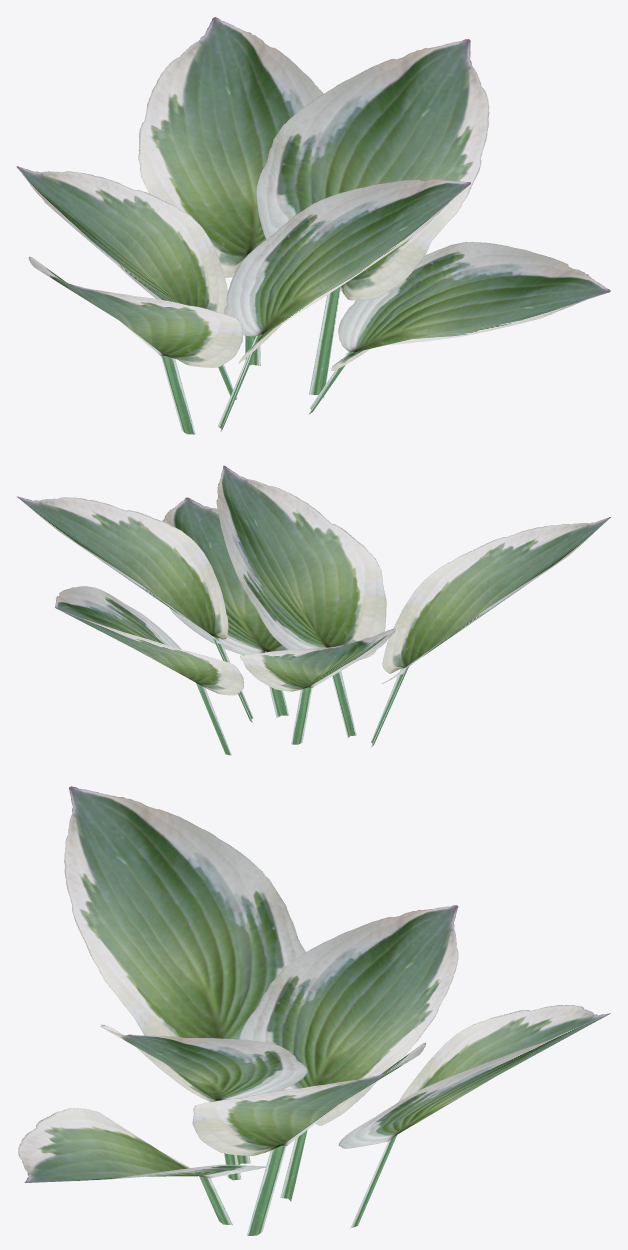
The model's file is plant_small_wg_04Z.fbx.
3 renders of one model, top to bottom at view 1: azimuth 30°, elevation 25°; view 2: azimuth 150°, elevation 25°; view 3: azimuth 270°, elevation 25°, orthographic. The views are drawn at different scales.
Visible parts, largest first — view 1: plant_small_wg_04Z; view 2: plant_small_wg_04Z; view 3: plant_small_wg_04Z.
Boxes of the visible parts, x1,y1,x2,y2 form: plant_small_wg_04Z: (16,17,610,434); plant_small_wg_04Z: (17,465,610,755); plant_small_wg_04Z: (18,786,610,1235).
Bounding box in the file's own units: 133 × 59.72 × 118.
